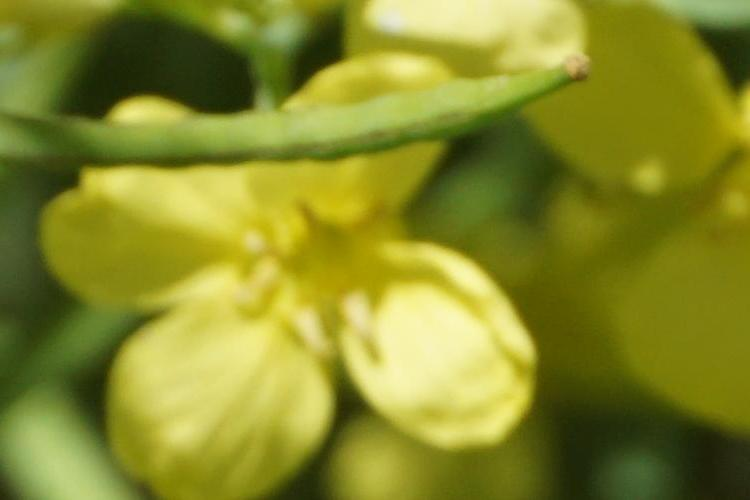pod: (28, 55, 606, 177)
yellow: (64, 60, 511, 468)
